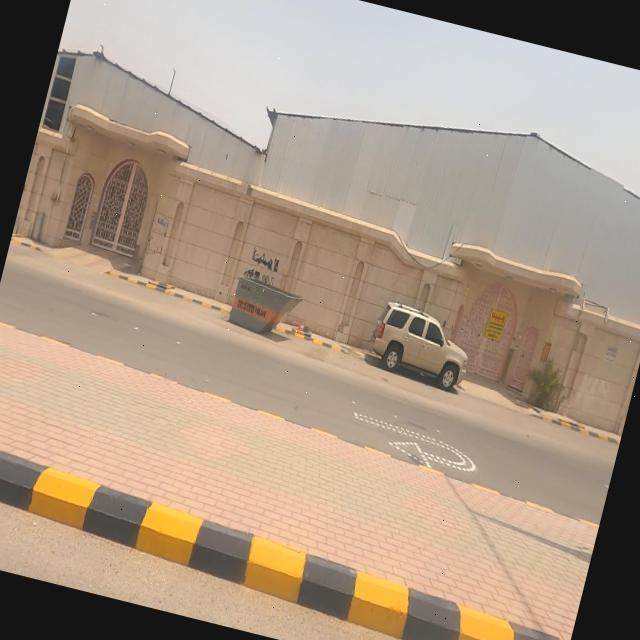Graffiti: (243, 246, 283, 286), (146, 214, 171, 262)
